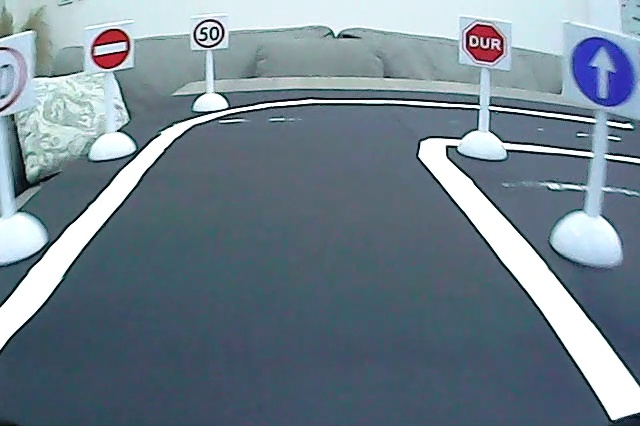do not enter: (89, 25, 134, 72)
speed limit 50: (190, 17, 227, 51)
stop sign: (460, 18, 510, 67)
